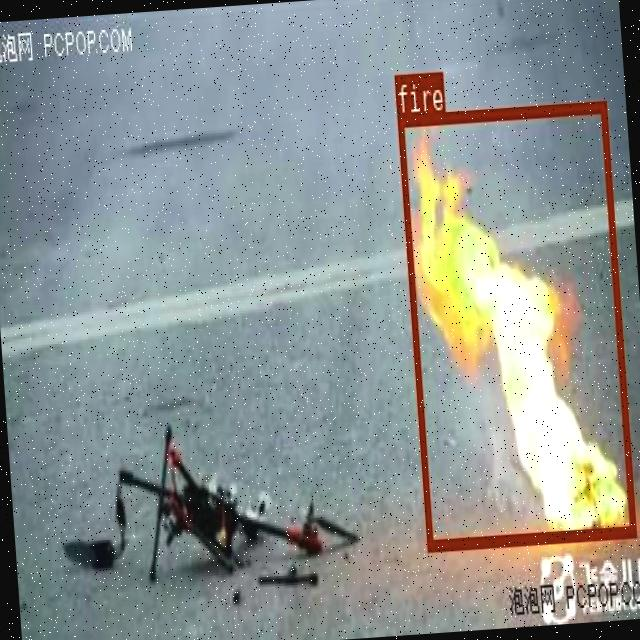fire: (396, 100, 635, 549)
